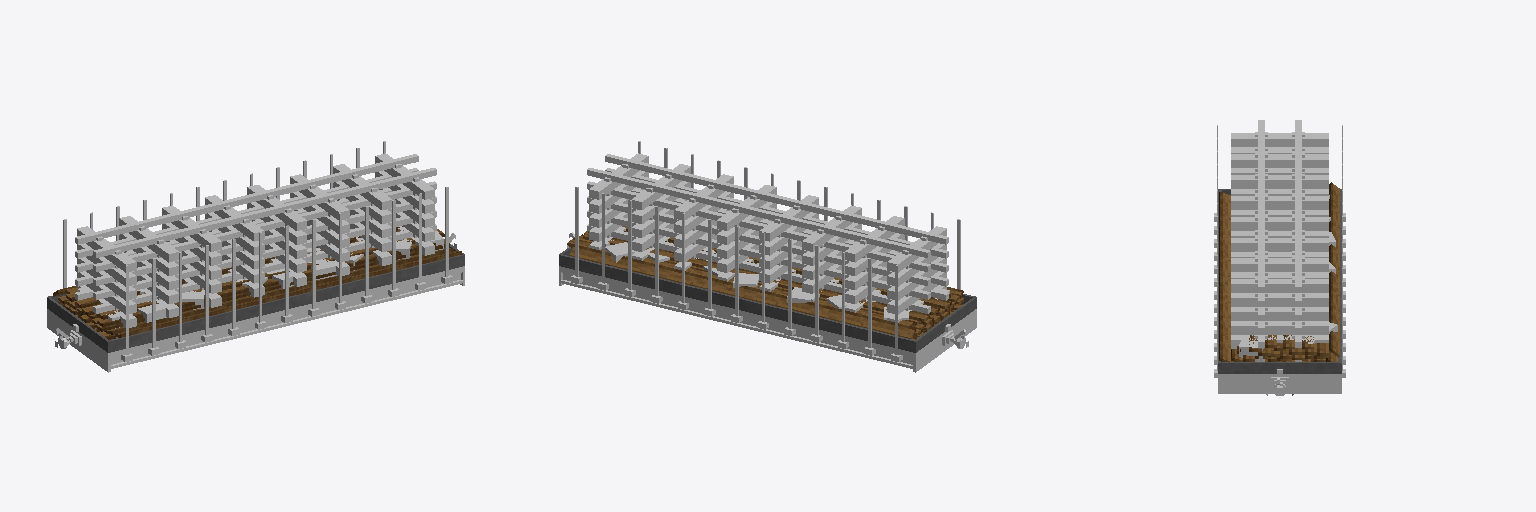
The picture shows the model from 3 angles: view 1: azimuth 30°, elevation 25°; view 2: azimuth 150°, elevation 25°; view 3: azimuth 270°, elevation 25°; orthographic projection.
Parts seen in each view (by area): view 1: CARGO_FILL_100, CARGO_FILL_60, Bolster, CARGO_FILL_80, CARGO_FILL_40, FRAME_body, CARGO_FILL_20, CARGO_FILL_45, FRAME_2, FRAME_1, FRAME_3, FRAME_end1 (+2 smaller); view 2: CARGO_FILL_100, CARGO_FILL_80, Bolster, CARGO_FILL_60, FRAME_body, CARGO_FILL_40, CARGO_FILL_75, CARGO_FILL_20, FRAME_2, FRAME_1, FRAME_3, FRAME_end1 (+1 smaller); view 3: CARGO_FILL_100, CARGO_FILL_80, FRAME_end2, CARGO_FILL_45, FRAME_body, CARGO_FILL_60, CARGO_FILL_75, CARGO_FILL_40, Bolster, CARGO_FILL_20, CARGO_FILL_90.
Boxes of the visible parts, box(x1,y1,x2,y2) form: CARGO_FILL_100: box(66, 153, 444, 328); CARGO_FILL_60: box(58, 187, 453, 334); Bolster: box(63, 141, 452, 361); CARGO_FILL_80: box(75, 168, 443, 286); CARGO_FILL_40: box(75, 210, 436, 314); FRAME_body: box(47, 244, 464, 352); CARGO_FILL_20: box(75, 224, 436, 327); CARGO_FILL_45: box(86, 251, 462, 339); FRAME_2: box(236, 297, 336, 338); FRAME_1: box(132, 323, 235, 362); FRAME_3: box(336, 272, 439, 313); FRAME_end1: box(47, 309, 133, 372); CARGO_FILL_100: box(583, 153, 951, 321); CARGO_FILL_80: box(587, 168, 948, 287); Bolster: box(571, 141, 960, 361); CARGO_FILL_60: box(587, 187, 949, 335); FRAME_body: box(559, 247, 976, 352); CARGO_FILL_40: box(587, 210, 948, 314); CARGO_FILL_75: box(569, 244, 964, 338); CARGO_FILL_20: box(587, 224, 948, 322); FRAME_2: box(687, 297, 787, 338); FRAME_1: box(788, 323, 891, 362); FRAME_3: box(584, 272, 687, 313); FRAME_end1: box(890, 309, 976, 372); CARGO_FILL_100: box(1231, 120, 1335, 351); CARGO_FILL_80: box(1231, 147, 1337, 361); FRAME_end2: box(1218, 374, 1341, 393); CARGO_FILL_45: box(1219, 192, 1313, 361); FRAME_body: box(1218, 189, 1341, 373); CARGO_FILL_60: box(1231, 230, 1328, 361); CARGO_FILL_75: box(1237, 182, 1339, 358); CARGO_FILL_40: box(1231, 321, 1328, 334); Bolster: box(1214, 125, 1345, 377); CARGO_FILL_20: box(1231, 195, 1330, 348); CARGO_FILL_90: box(1240, 343, 1328, 358).
Bounding box in the file's own units: 9.38 × 2.77 × 2.69.
9 materials, 3 textured.